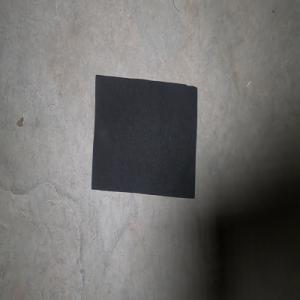PaintChip: (91, 74, 197, 199)
